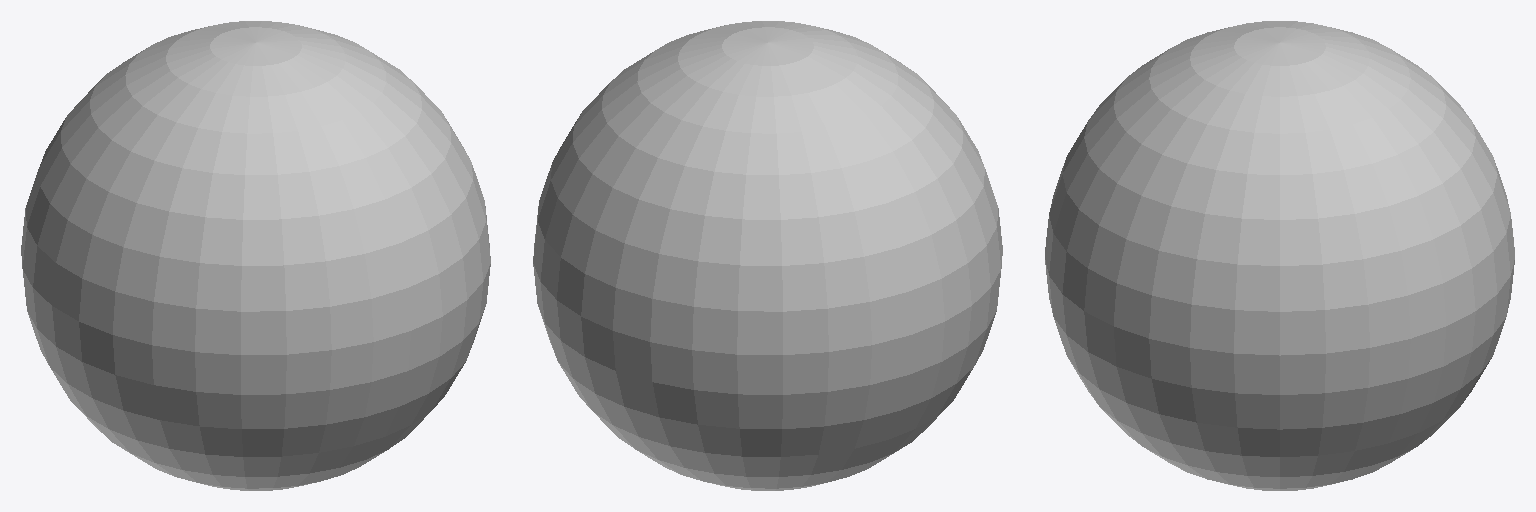
File: sphere_offcenter.obj
3 renders of one model, left to right at view 1: azimuth 30°, elevation 25°; view 2: azimuth 150°, elevation 25°; view 3: azimuth 270°, elevation 25°, orthographic.
Parts seen in each view (by area): view 1: Sphere; view 2: Sphere; view 3: Sphere.
Boxes of the visible parts, x1,y1,x2,y2 form: Sphere: [21, 21, 490, 490]; Sphere: [533, 21, 1002, 490]; Sphere: [1045, 21, 1514, 490].
Size of the model in its own units: 2 by 2 by 2.